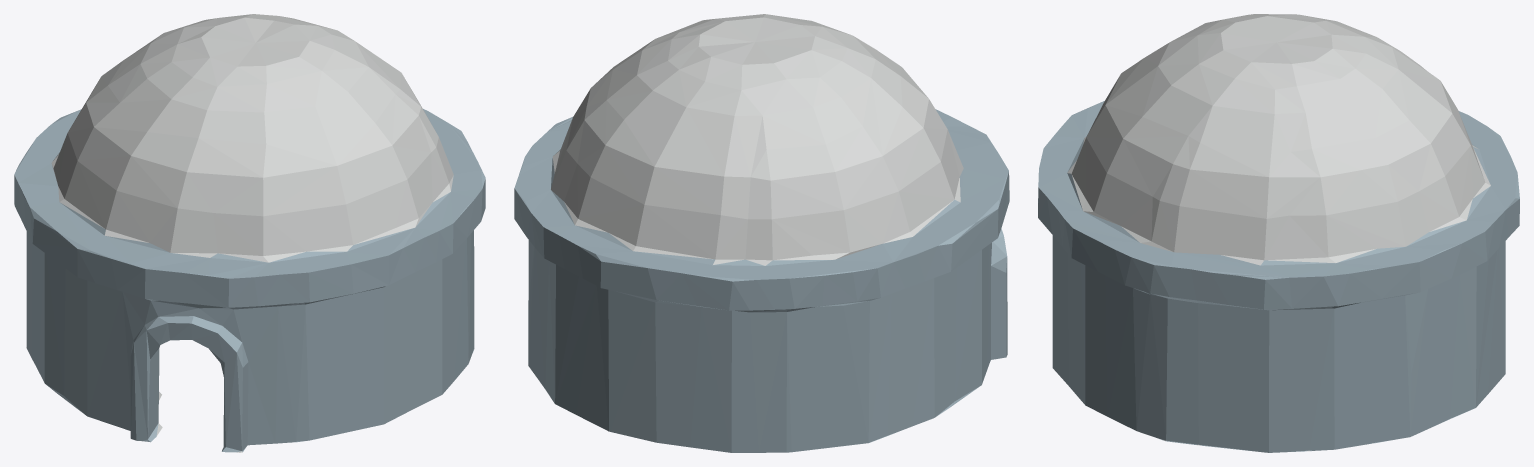
The picture shows the model from 3 angles, left to right: view 1: azimuth 30°, elevation 25°; view 2: azimuth 150°, elevation 25°; view 3: azimuth 270°, elevation 25°; orthographic projection. The views are drawn at different scales.
Parts seen in each view (by area): view 1: geometry_0; view 2: geometry_0; view 3: geometry_0.
Boxes of the visible parts, x1,y1,x2,y2 form: geometry_0: (14,14,485,452); geometry_0: (514,14,1009,452); geometry_0: (1038,14,1519,452).
Size of the model in its own units: 0.8359 by 0.6037 by 0.83.
